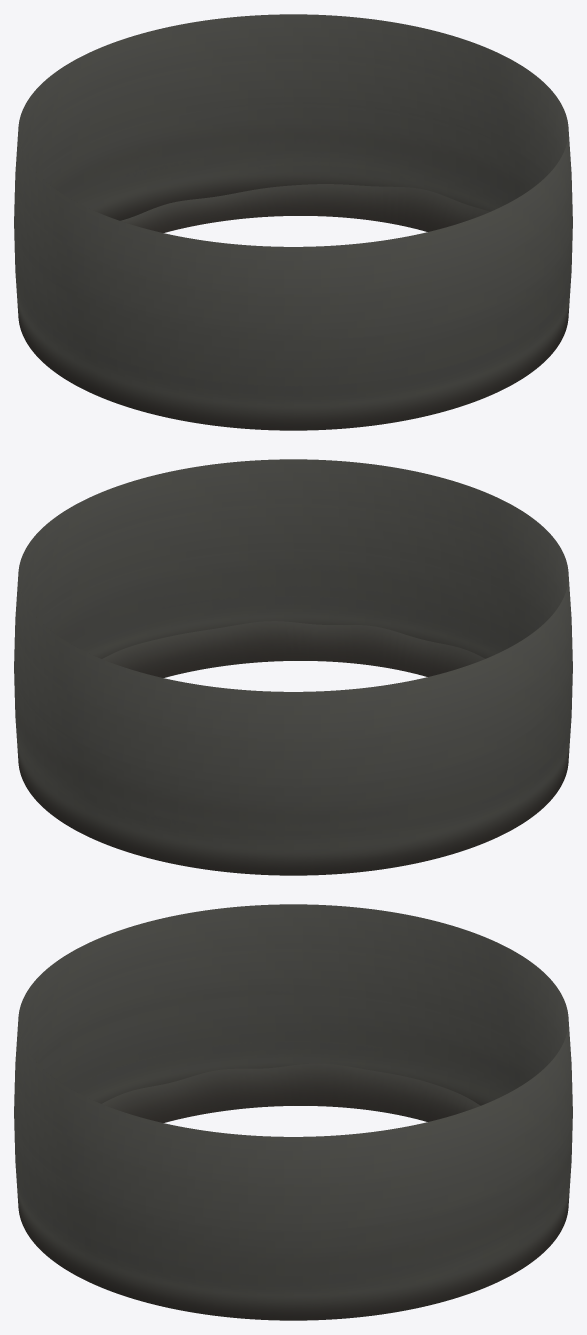
File: twin-banks-panorama.glb
3 renders of one model, top to bottom at view 1: azimuth 30°, elevation 25°; view 2: azimuth 150°, elevation 25°; view 3: azimuth 270°, elevation 25°, orthographic.
Parts seen in each view (by area): view 1: TwinBanksPanorama; view 2: TwinBanksPanorama; view 3: TwinBanksPanorama.
Part boxes in pixels (box(x1,y1,x2,y2)): TwinBanksPanorama: box(14, 14, 572, 430); TwinBanksPanorama: box(14, 459, 572, 875); TwinBanksPanorama: box(14, 904, 572, 1320).
Bounding box in the file's own units: 386 × 140 × 386.
1 material, 1 textured.
